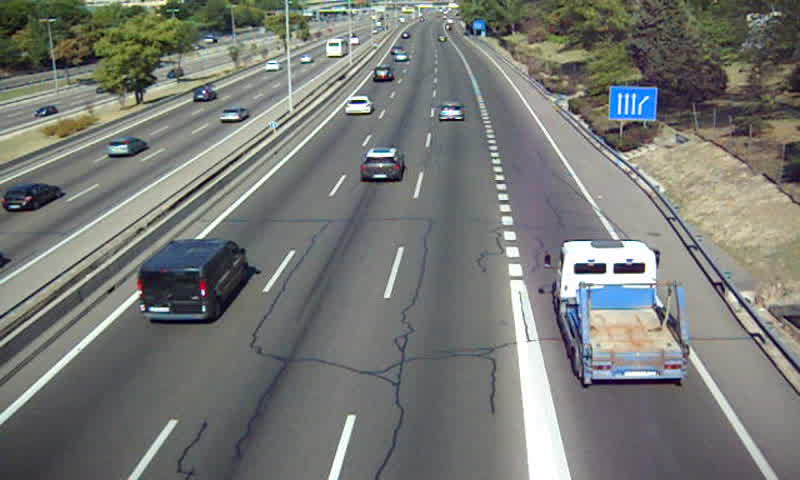car: (360, 147, 405, 181), (342, 96, 372, 116), (437, 100, 464, 122), (371, 66, 393, 83), (392, 51, 410, 64)
small-truck: (555, 240, 687, 384)
van: (137, 239, 246, 322)
